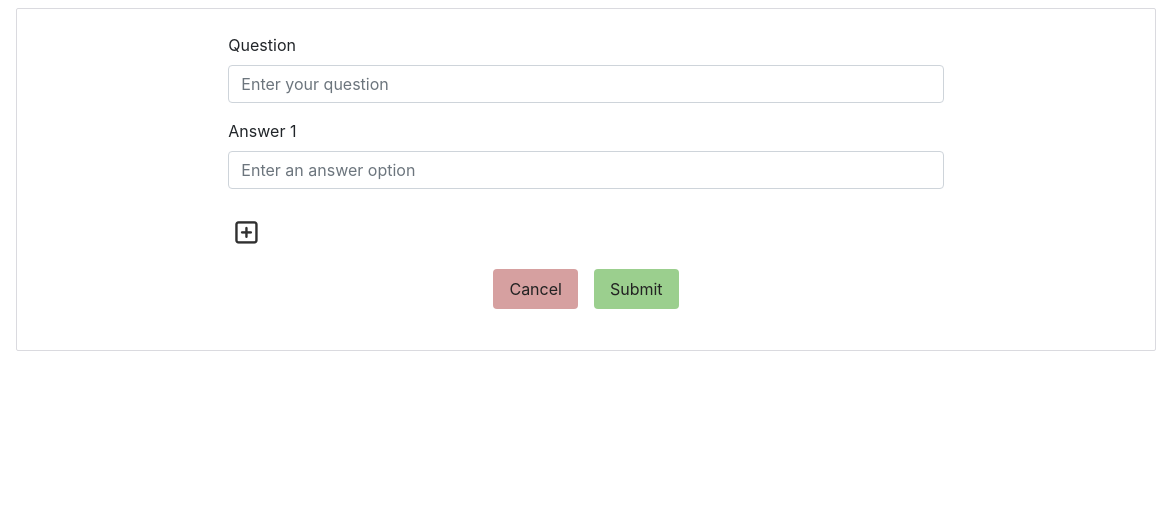
Scenario: QuestionForm › displays validation errors for empty inputs
Click the button "Submit".
click(636, 289)  # box left=594, top=269, right=679, bottom=309
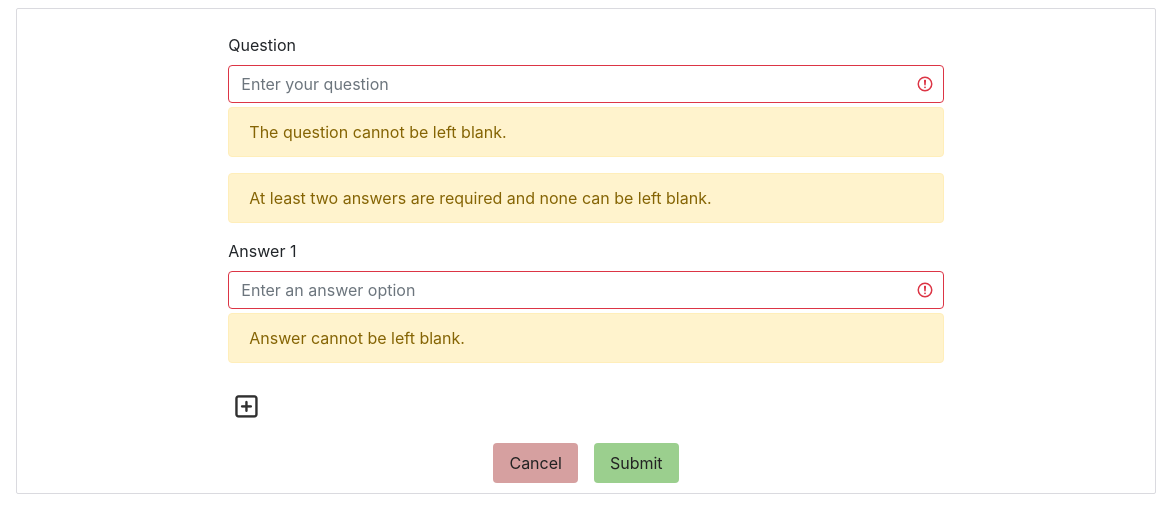
Check: the text "The question cannot be left blank." is shown, box left=228, top=107, right=944, bottom=157
Check: the text "At least two answers are required and none can be left blank." is shown, box left=228, top=173, right=944, bottom=223
